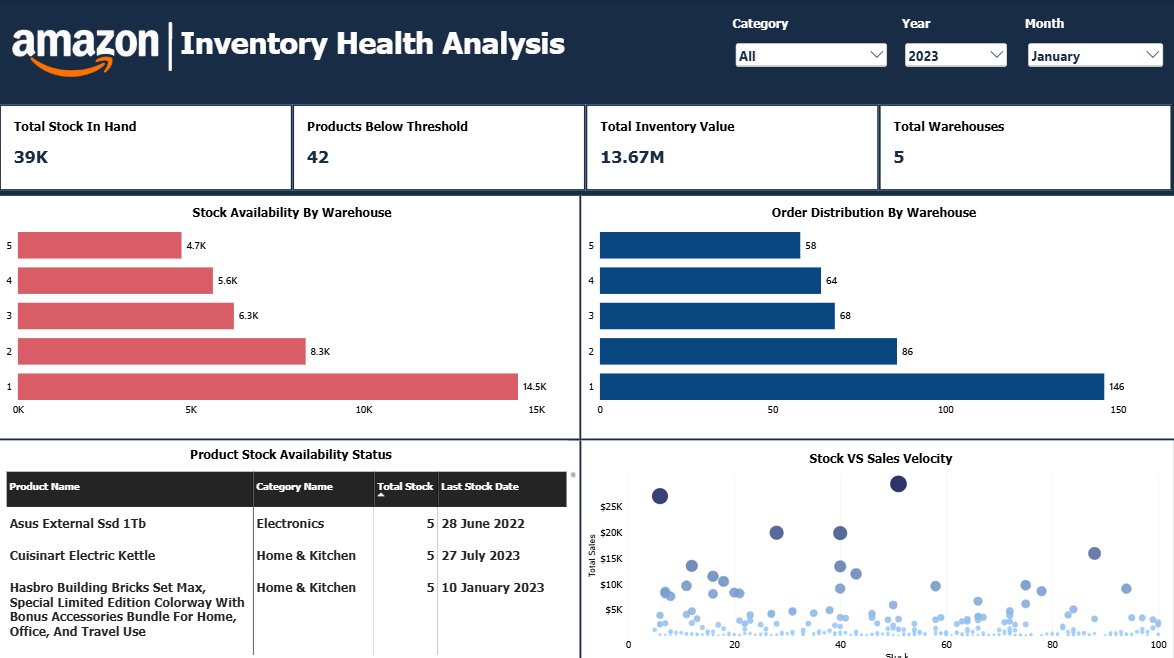

This screenshot's page, from the dashboard's own definition file:
{"tool":"powerbi","page":{"name":"Inventory Health Analysis","canvas":[1920,1080],"ordinal":3},"visuals":[{"type":"shape","box":[0,700.2,988.1,380.6],"z":0},{"type":"shape","box":[949.4,699.3,969.8,380.3],"z":1000},{"type":"group","id":"g1","title":"Group 3","box":[929,316.5,990.2,400.7],"z":2000},{"type":"slicer","title":"Month","fields":{"Values":["public dim_date.month_name"]},"box":[1673.7,26.8,229.3,131.8],"z":3000,"group":"g2"},{"type":"shape","box":[0,148.8,1920.1,168.3],"z":3000},{"type":"shape","box":[0,0,1920.1,170.8],"z":4000},{"type":"slicer","title":"Year","fields":{"Values":["public dim_date.year"]},"box":[1473.6,26.8,175.7,136.6],"z":4000,"group":"g2"},{"type":"cardVisual","fields":{"Data":["public fact_inventory.total_stock_in_hand","public fact_inventory.products_below_threshold","public fact_inventory.total_inventory_value","public fact_inventory.total_warehouses"]},"box":[0,165.9,1920.1,151.3],"z":5000},{"type":"slicer","title":"Category","fields":{"Values":["public dim_products.category_name"]},"box":[1197.9,26.8,256.2,131.8],"z":6000},{"type":"textbox","box":[299.4,42.3,871,109.8],"z":6000,"group":"g2"},{"type":"shape","box":[929,316.5,990.2,400.7],"z":6000,"group":"g1"},{"type":"textbox","box":[251.3,14.6,68.3,139.1],"z":7000,"group":"g2"},{"type":"image","box":[0,31.7,287.9,104.9],"z":7000},{"type":"shape","box":[0,316.5,951.9,400.7],"z":8000},{"type":"group","id":"g2","title":"Group 1","box":[251.3,14.6,1651.8,148.8],"z":9000},{"type":"tableEx","title":"Product Stock Availability Status","fields":{"Values":["public dim_products.product_name","public dim_products.category_name","public fact_inventory.total_stock_in_hand","public fact_inventory.last_stock_date"]},"box":[0,714.6,959.6,367.5],"z":10000},{"type":"scatterChart","title":"Stock VS Sales Velocity","fields":{"Series":["public dim_products.product_name"],"Size":["public fact_sales.total_valid_revenue"],"X":["public fact_inventory.stock"],"Y":["public fact_sales.total_valid_revenue"]},"box":[961.3,734.4,956.4,346.5],"z":11000},{"type":"barChart","title":"Stock Availability By Warehouse","fields":{"Category":["public dim_warehouse.warehouse_id"],"Y":["public fact_inventory.total_stock_in_hand"]},"box":[15.3,334.3,934.1,347.1],"z":12000},{"type":"barChart","title":"Order Distribution By Warehouse","fields":{"Category":["public dim_warehouse.warehouse_id"],"Y":["public fact_sales.total_orders"]},"box":[961.3,334.3,934.1,347.1],"z":12001}]}

Visuals, with their boxes in screenshot pixels (x1, y1, x2, y2), scaled from the page's 1920x1080 canvas onto the 1174x658 screenshot:
shape: [0,427,604,657]
shape: [581,426,1173,657]
"Group 3" group: [568,193,1173,437]
"Month" slicer: [1023,16,1164,97]
shape: [0,91,1173,193]
shape: [0,0,1173,104]
"Year" slicer: [901,16,1008,100]
cardVisual - public fact_inventory.total_stock_in_hand x public fact_inventory.products_below_threshold: [0,101,1173,193]
"Category" slicer: [732,16,889,97]
textbox: [183,26,716,93]
shape: [568,193,1173,437]
textbox: [154,9,195,94]
image: [0,19,176,83]
shape: [0,193,582,437]
"Group 1" group: [154,9,1164,100]
"Product Stock Availability Status" tableEx: [0,435,587,657]
"Stock VS Sales Velocity" scatterChart: [588,447,1173,657]
"Stock Availability By Warehouse" barChart: [9,204,581,415]
"Order Distribution By Warehouse" barChart: [588,204,1159,415]
